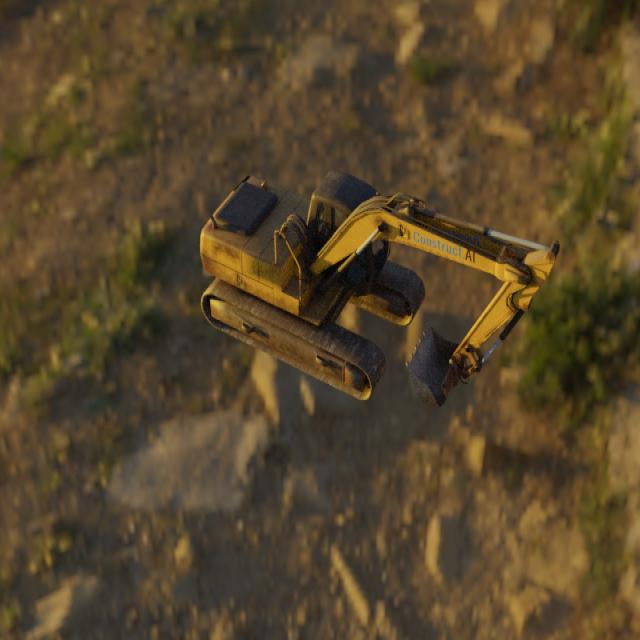excavator: (199, 168, 560, 408)
